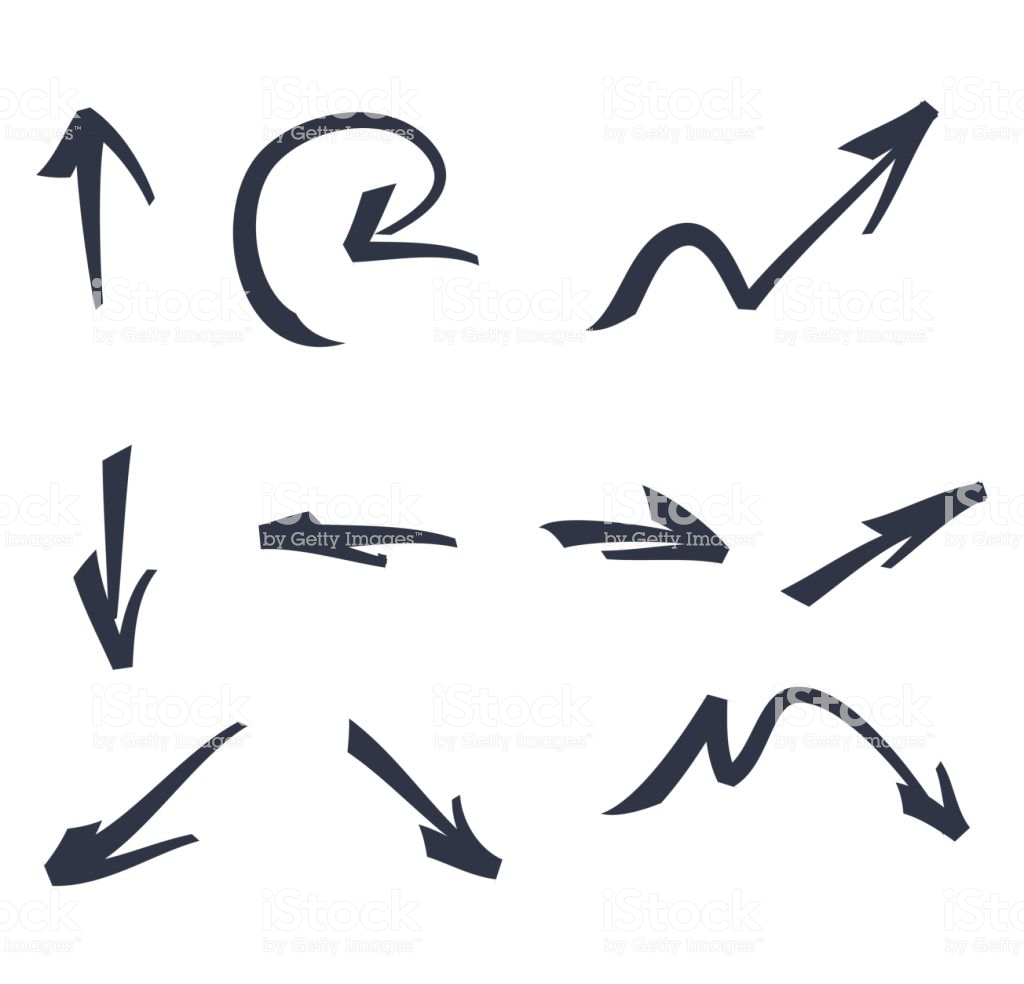arrow: (579, 79, 951, 346), (604, 662, 989, 862), (222, 103, 502, 357), (15, 700, 271, 889), (322, 707, 536, 912), (768, 462, 994, 622), (35, 100, 166, 322), (63, 433, 167, 687), (535, 474, 739, 588), (243, 501, 469, 578)
